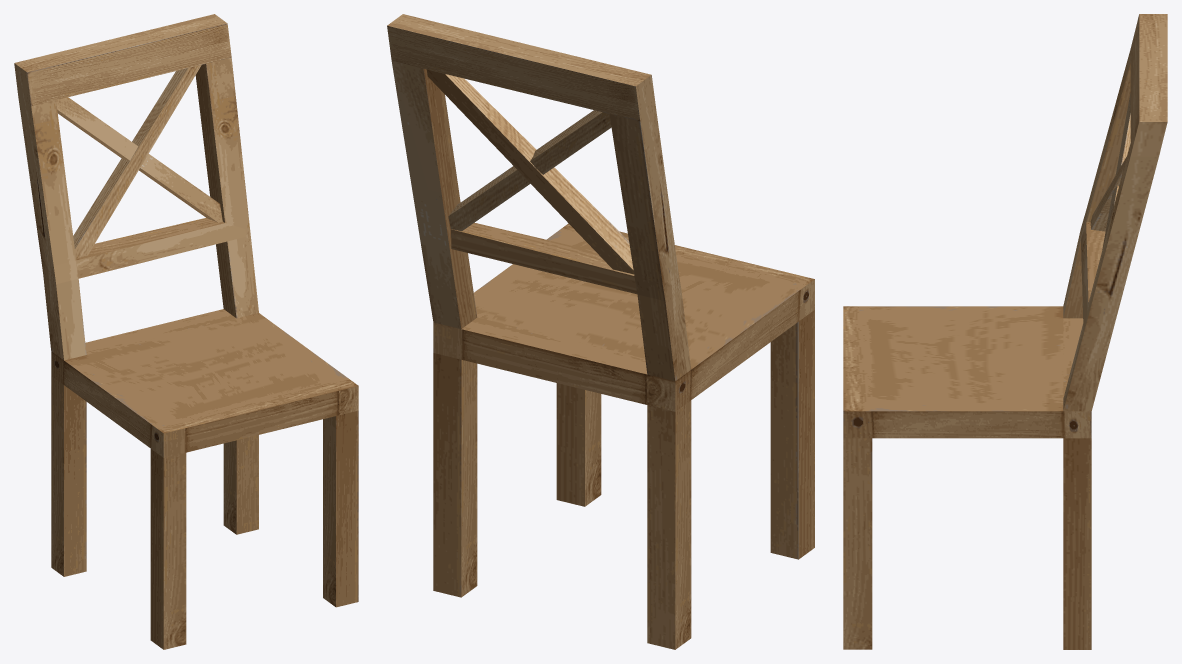
Rendered from chair.fbx.
3 renders of one model, left to right at view 1: azimuth 30°, elevation 25°; view 2: azimuth 150°, elevation 25°; view 3: azimuth 270°, elevation 25°, orthographic. The views are drawn at different scales.
Visible parts, largest first — view 1: Cube; view 2: Cube; view 3: Cube.
Part boxes in pixels (x1=…): Cube: x1=14, y1=14, x2=358, y2=649; Cube: x1=387, y1=14, x2=814, y2=649; Cube: x1=843, y1=14, x2=1167, y2=649.
Bounding box in the file's own units: 206 × 471 × 261.
1 material, 1 textured.
